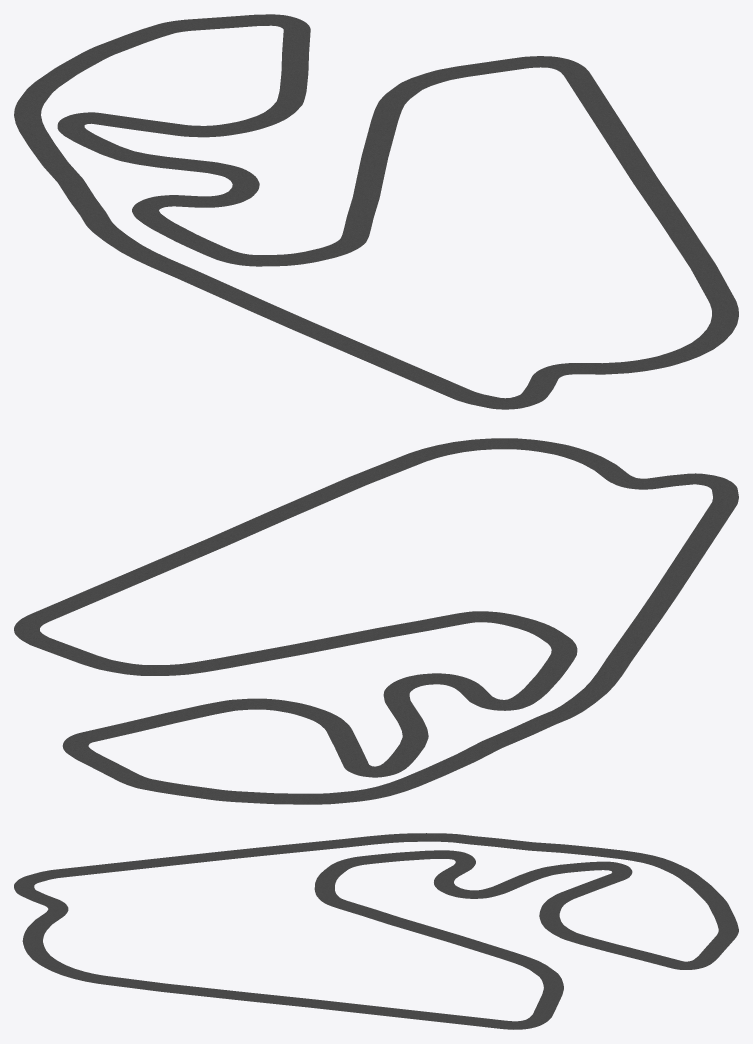
File: track.dae
The picture shows the model from 3 angles, top to bottom: view 1: azimuth 30°, elevation 25°; view 2: azimuth 150°, elevation 25°; view 3: azimuth 270°, elevation 25°; orthographic projection. The views are drawn at different scales.
Visible parts, largest first — view 1: road-node; view 2: road-node; view 3: road-node.
Boxes of the visible parts, box(x1,y1,x2,y2) form: road-node: box(14, 14, 738, 409); road-node: box(14, 438, 738, 804); road-node: box(14, 833, 738, 1029).
Bounding box in the file's own units: 34.59 × 53.89 × 0.
Materials: 1 (1 with a texture image).
